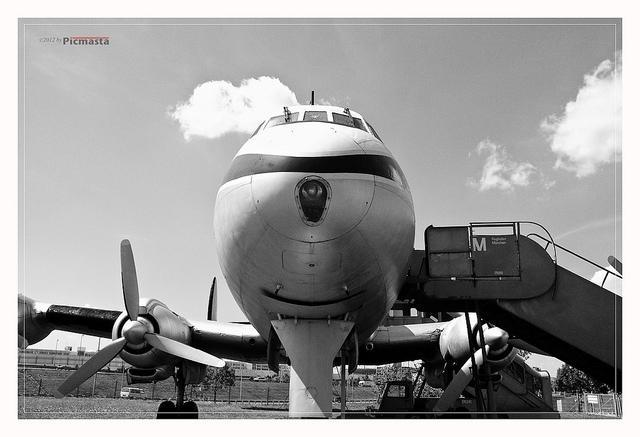bus: (120, 387, 148, 400)
truck: (376, 380, 440, 411)
